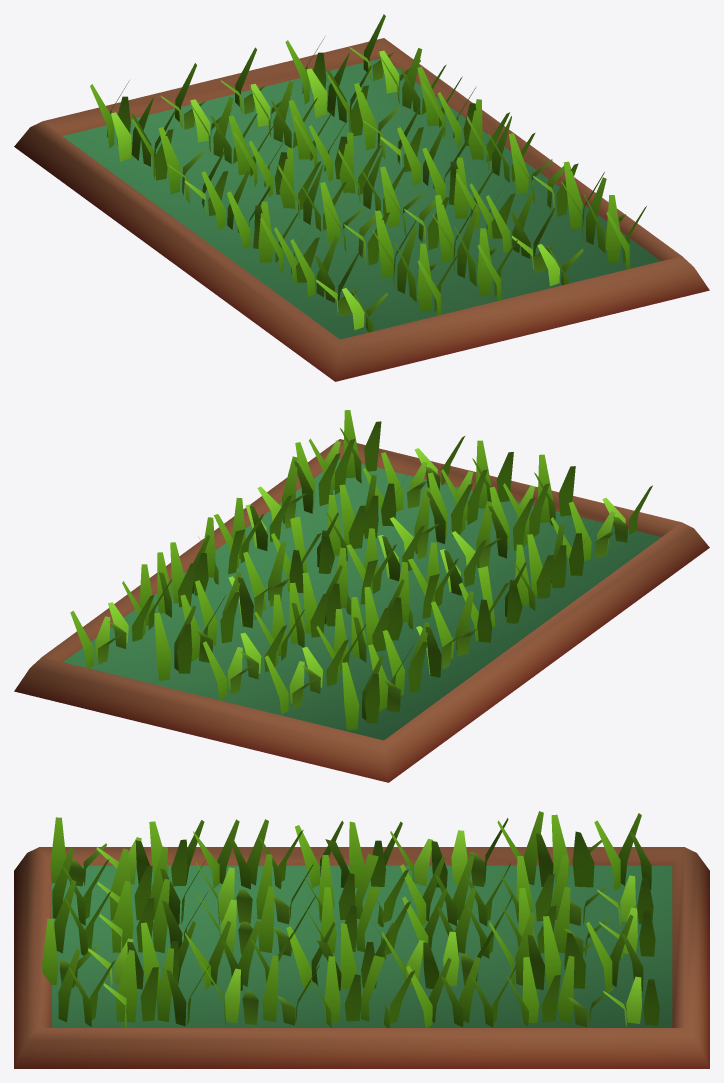
The model's file is SM_Blockout_RiceField_01.fbx.
The picture shows the model from 3 angles, top to bottom: view 1: azimuth 30°, elevation 25°; view 2: azimuth 150°, elevation 25°; view 3: azimuth 270°, elevation 25°; orthographic projection. The views are drawn at different scales.
Parts seen in each view (by area): view 1: SM_Blockout_RiceField_01; view 2: SM_Blockout_RiceField_01; view 3: SM_Blockout_RiceField_01.
Part boxes in pixels (x1,y1,x2,y2): SM_Blockout_RiceField_01: [14, 14, 709, 381]; SM_Blockout_RiceField_01: [14, 410, 709, 782]; SM_Blockout_RiceField_01: [14, 811, 709, 1068].
Size of the model in its own units: 2.13 by 0.4165 by 3.16.
